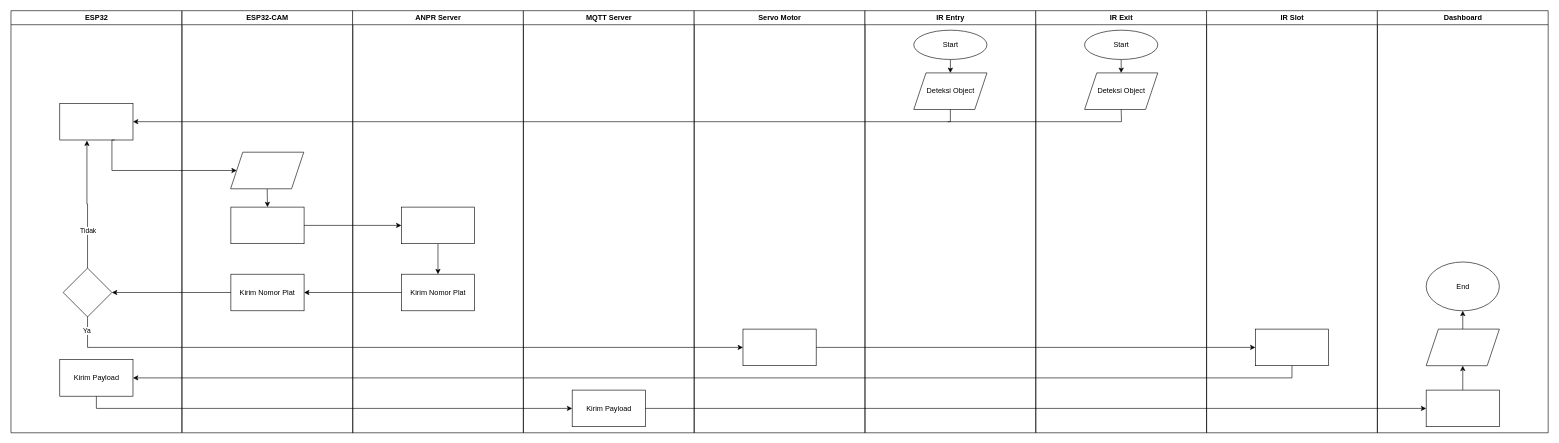
Some shapes in this 1559 by 443 pixel diagram are drawn without their labels. Each missing label, with the centre of its shape:
Ambil Gambar: the point at 267,170
Buka Gerbang: the point at 779,347
Cek Slot: the point at 1292,347
Deteksi Gambar: the point at 438,225
Kirim Gambar: the point at 267,225
Kirim Trigger: the point at 96,121
Plat Valid?: the point at 87,292
Proses Data: the point at 1462,408
Tampilkan Data: the point at 1462,347
